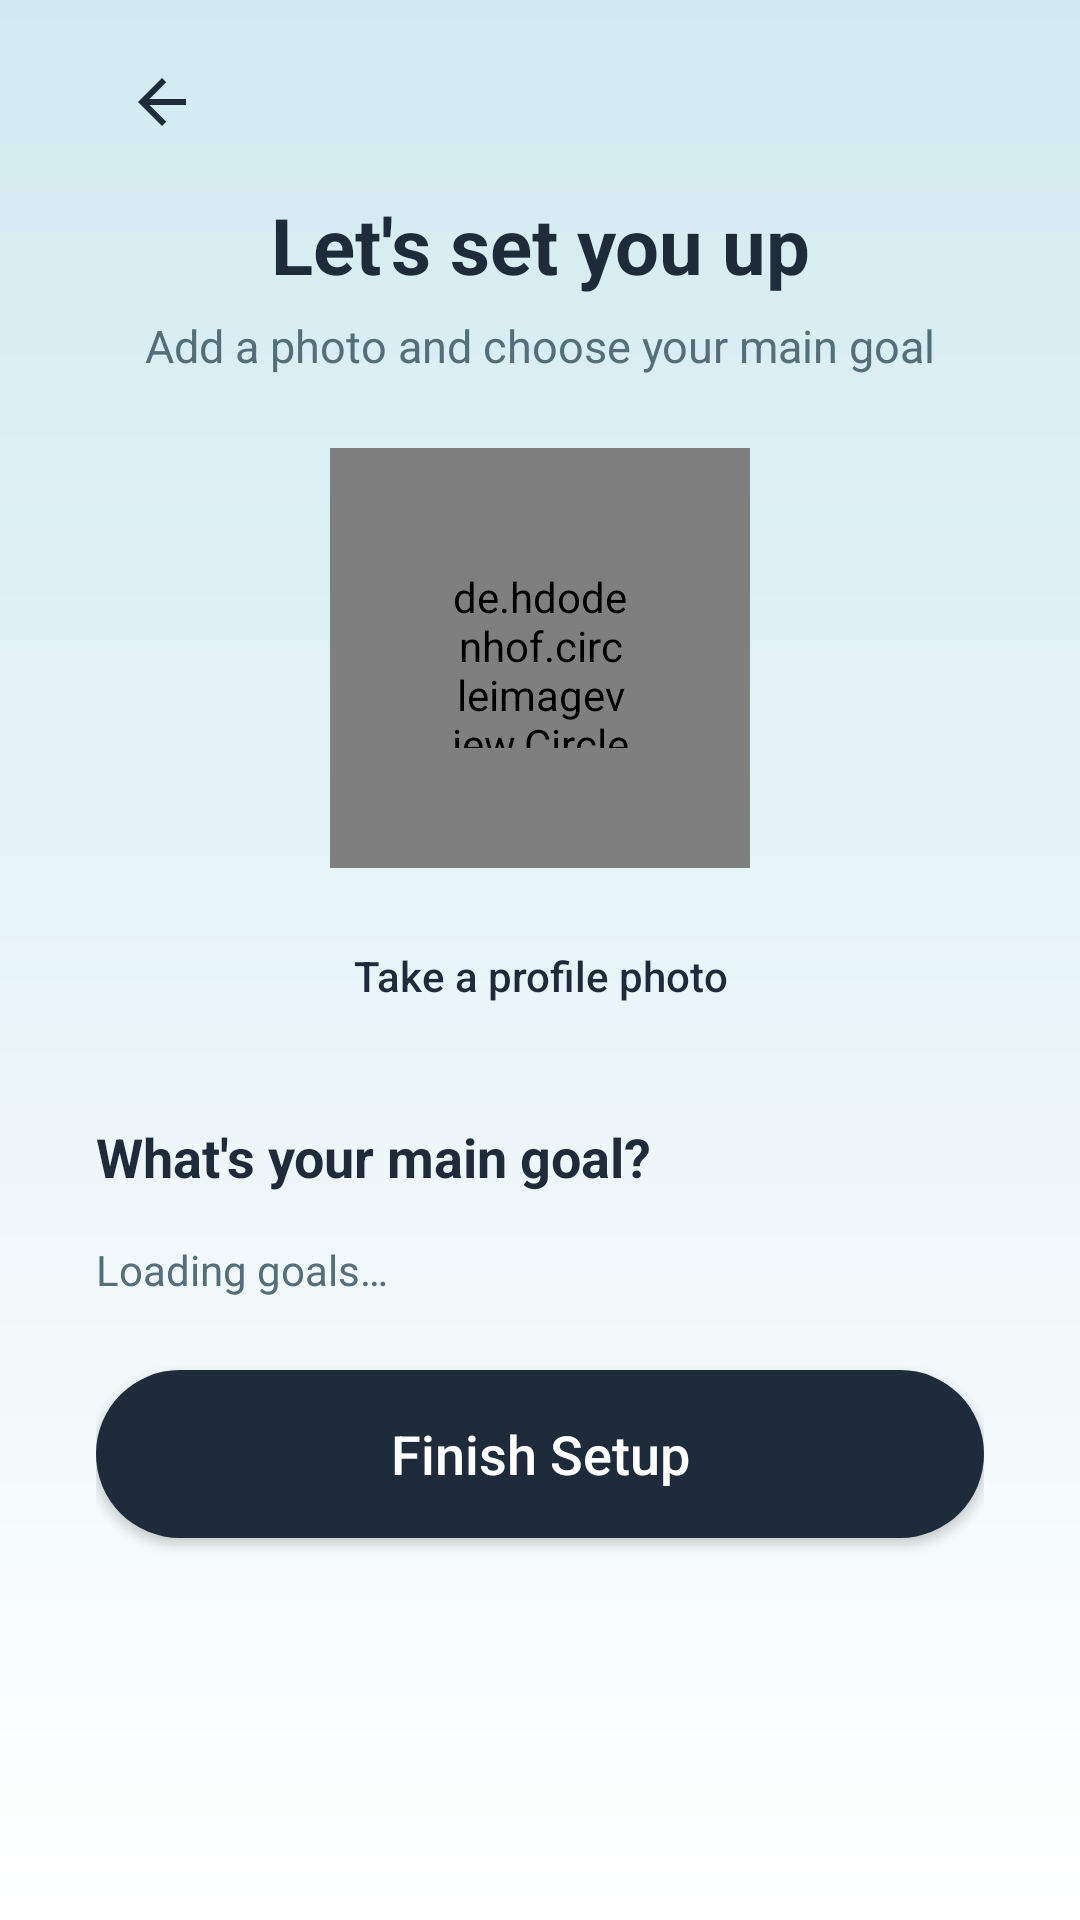

Named icons in this screenshot (1080*1920) and their centers, (x=x, y=y):
Back: (x=162, y=102)
